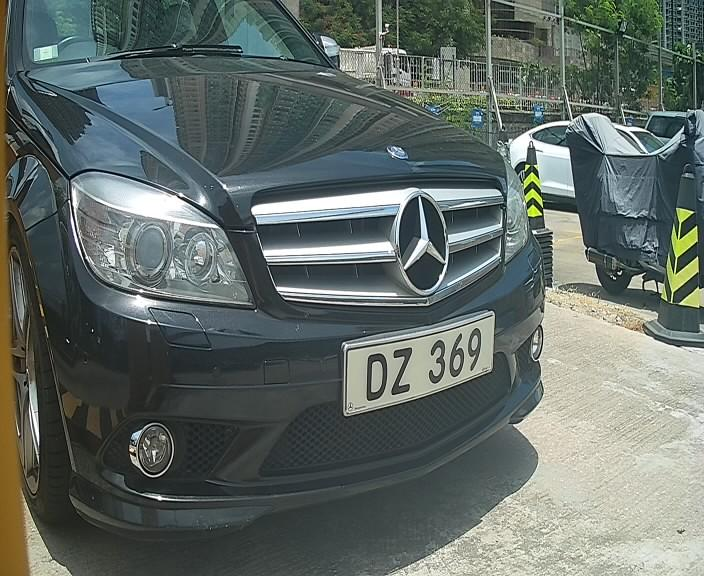License Plate: (343, 317, 497, 412)
